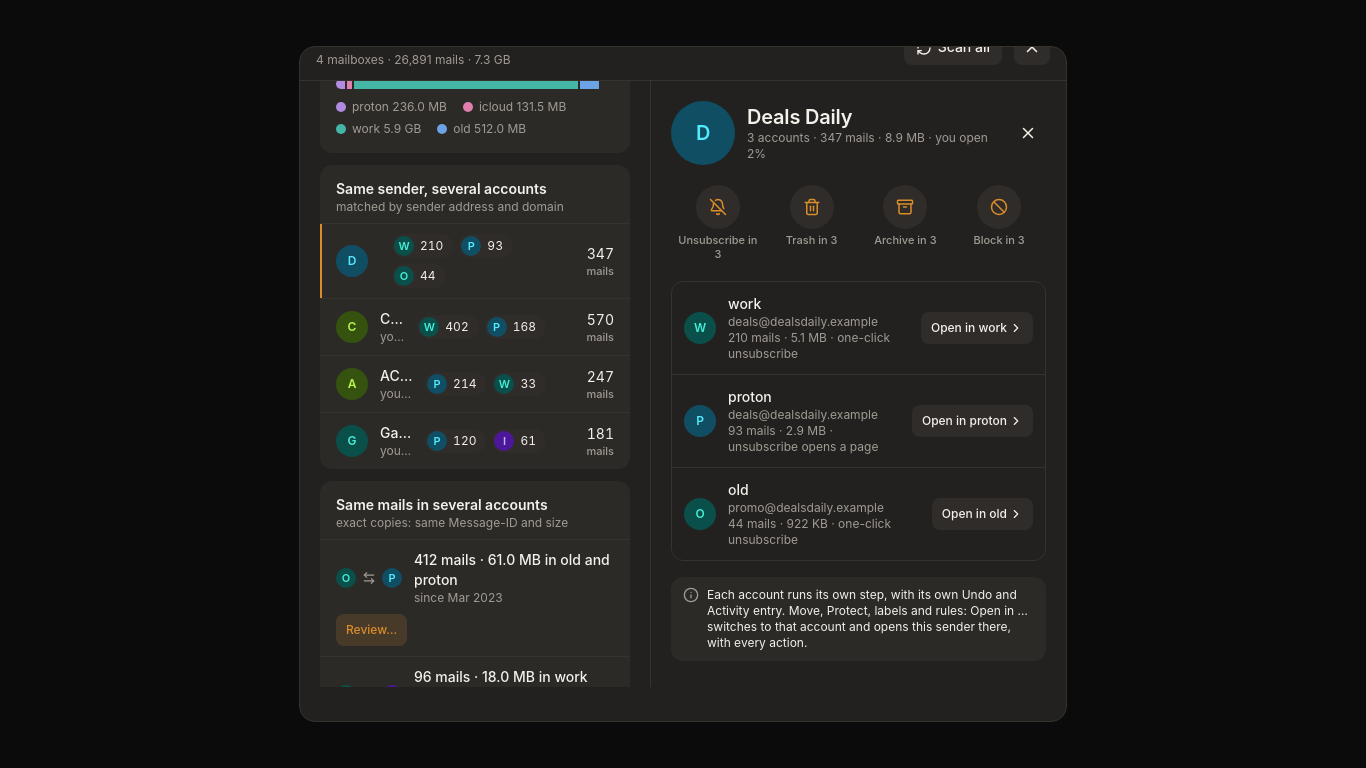
opening a pane or a row changes nothing: no account is switched
(page scrolled)
What coordinates should you click on to do the following:
click the button with aria-label "ACME Store: 2 accounts, 247 mails"
I would click on:
 (475, 384)
Its box is [320, 356, 630, 412].
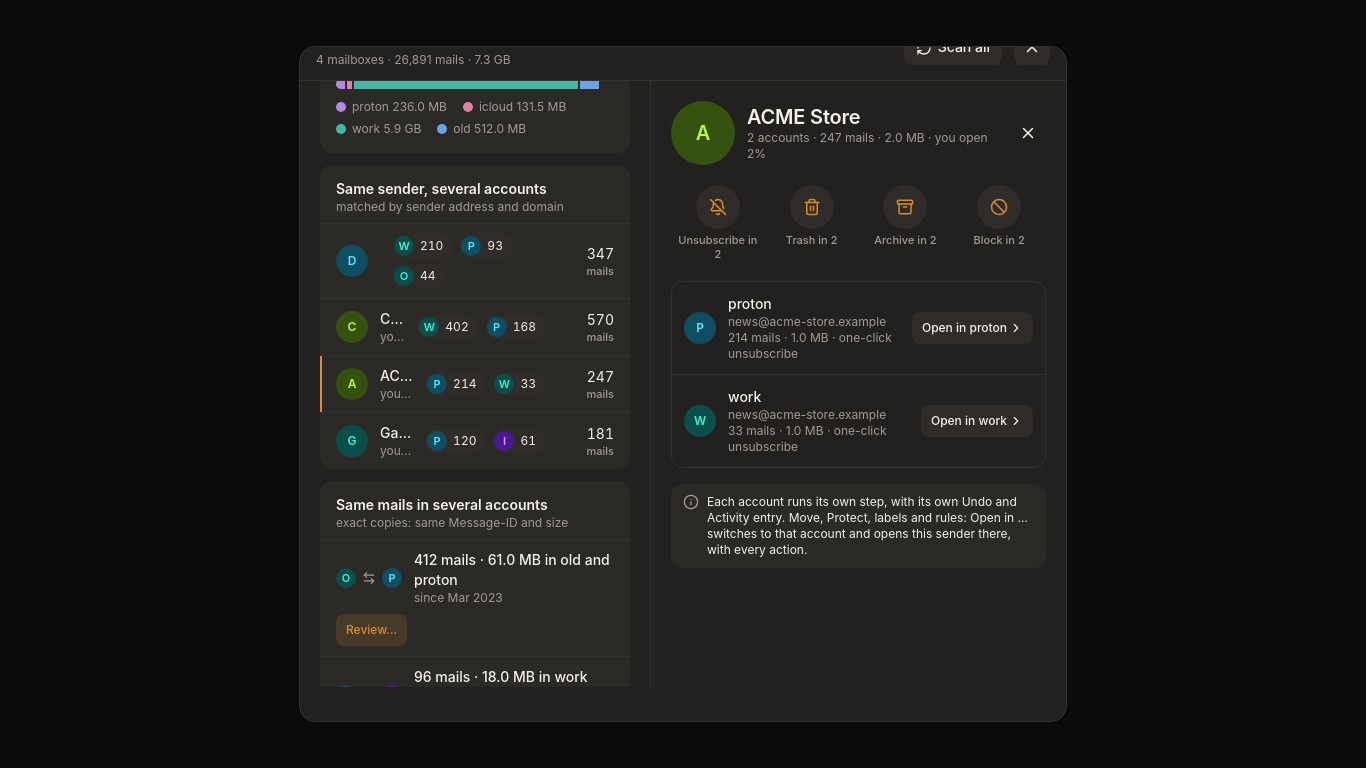
Expected: the heading "ACME Store" is shown, [747, 105, 860, 129]
